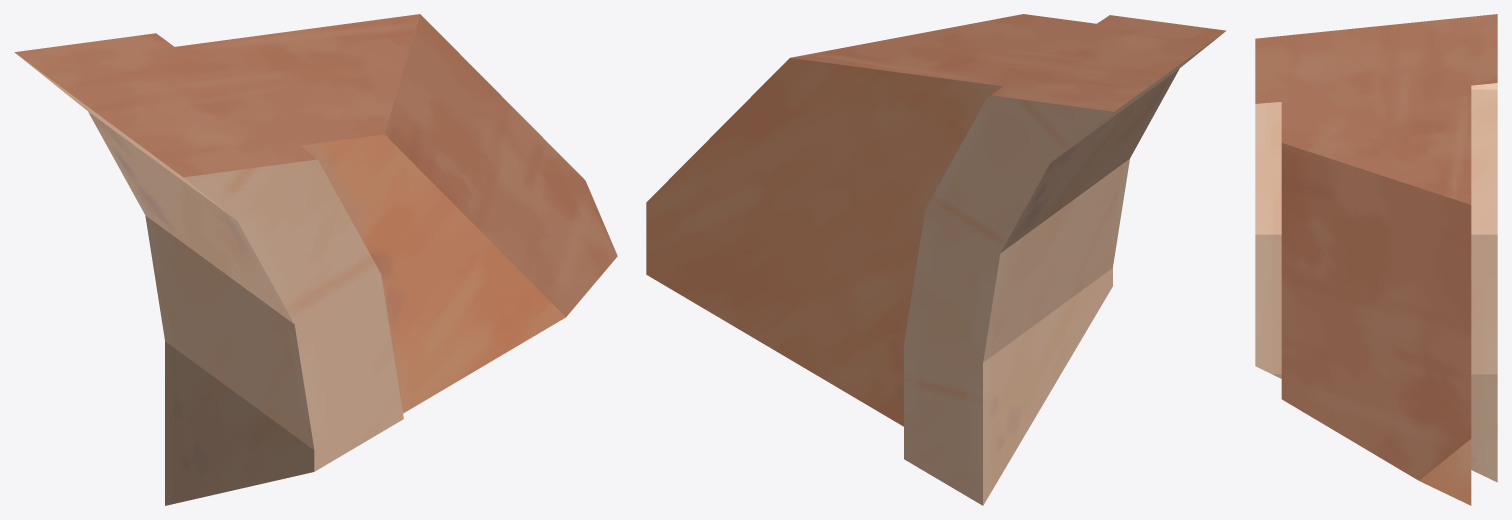
Rendered from wall2_upper_door_s05.fbx.
The picture shows the model from 3 angles, left to right: view 1: azimuth 30°, elevation 25°; view 2: azimuth 150°, elevation 25°; view 3: azimuth 270°, elevation 25°; orthographic projection. The views are drawn at different scales.
Parts seen in each view (by area): view 1: wall2_upper_door_s05; view 2: wall2_upper_door_s05; view 3: wall2_upper_door_s05.
Boxes of the visible parts, x1,y1,x2,y2 form: wall2_upper_door_s05: (14, 14, 617, 505); wall2_upper_door_s05: (646, 14, 1226, 505); wall2_upper_door_s05: (1255, 14, 1497, 505).
Size of the model in its own units: 2.75 by 2.32 by 1.28.
